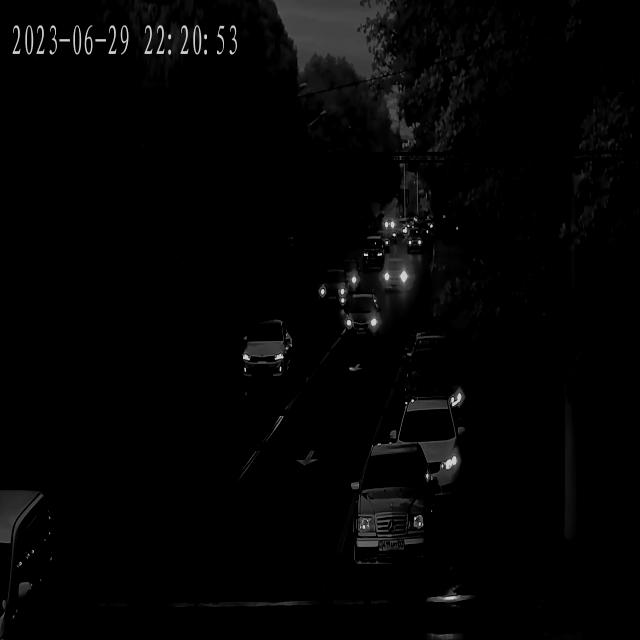Car: (348, 434, 438, 572), (0, 484, 64, 640), (395, 401, 469, 508), (406, 341, 470, 443), (242, 315, 294, 384), (344, 292, 380, 342), (319, 266, 349, 314), (386, 257, 410, 295), (362, 235, 384, 273), (409, 231, 423, 256), (383, 224, 399, 242)
